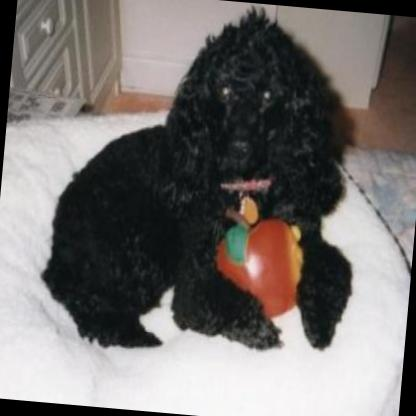miniature_poodle: (31, 0, 377, 371)
